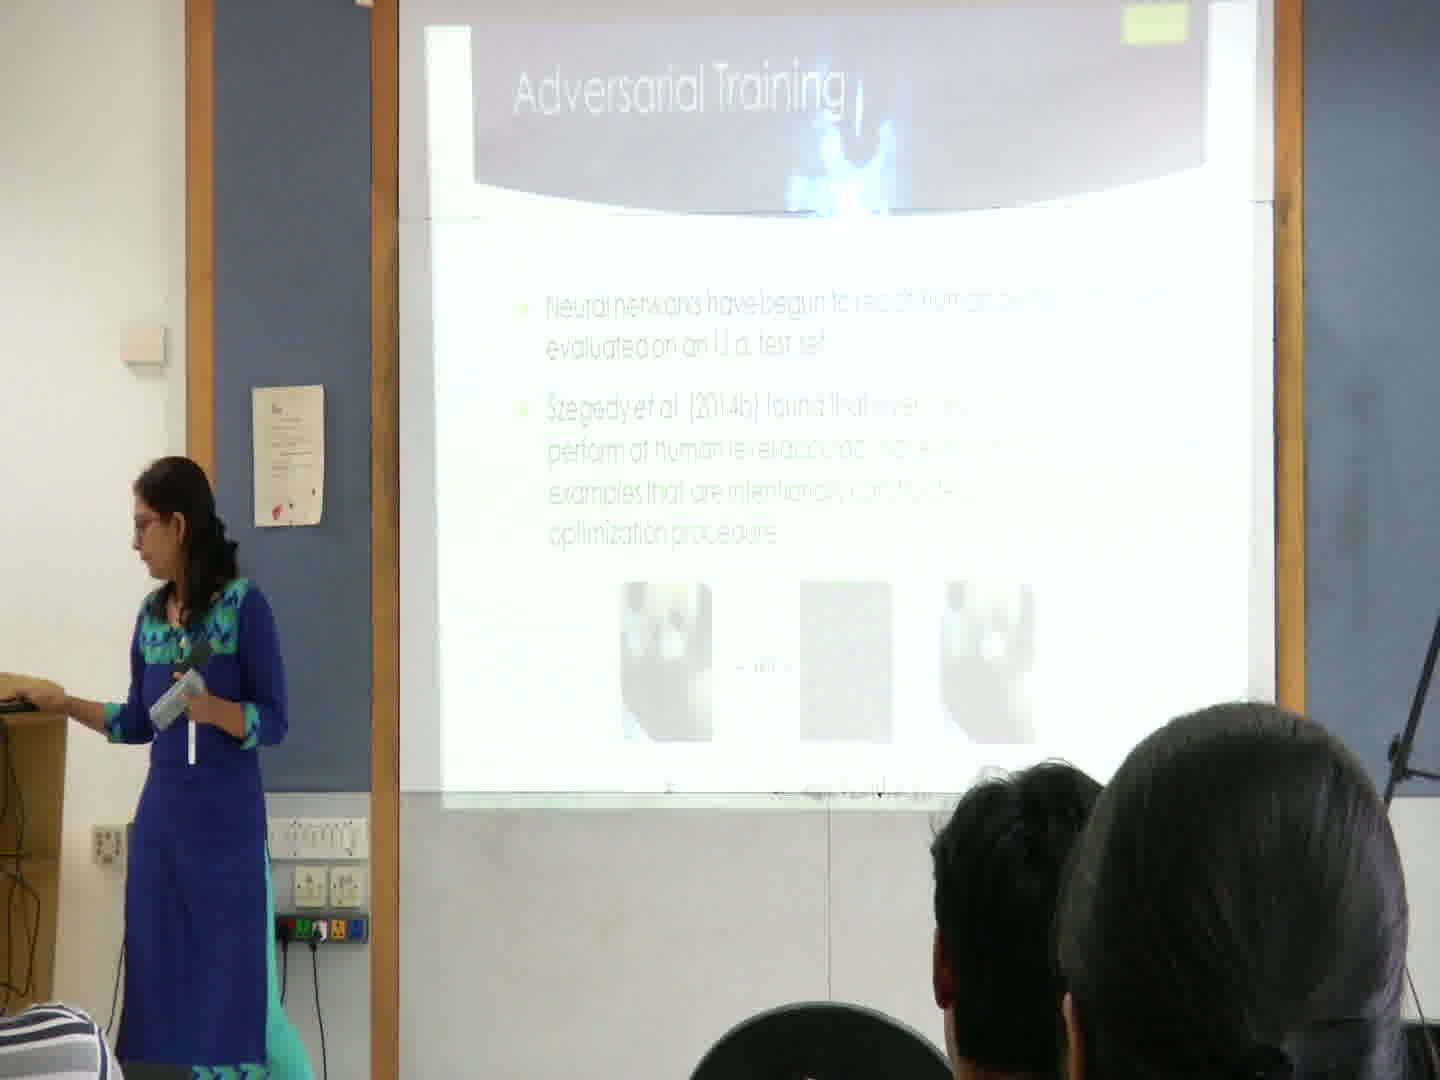fig: (933, 575, 1057, 749), (611, 572, 726, 750)
